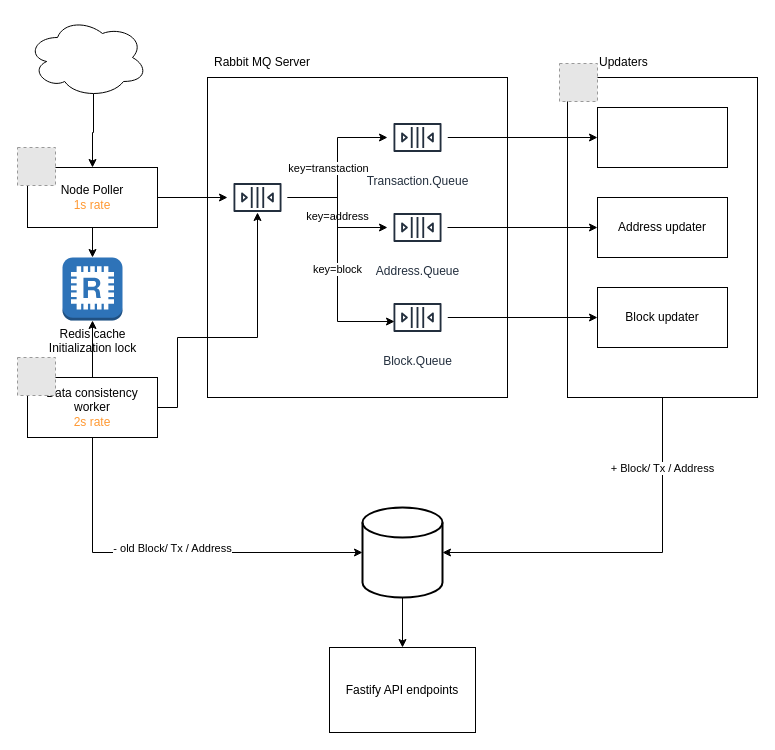
This 775x750 diagram has some shape labels left out. Grey dashed boxes stand in for pictures. The shapes that lost their labels are listed below. From the top down, each one's centre as x and y in pixels, then its label:
At (87,57): "Avascan node API".
At (662,137): "Tx updater".
At (257,197): "Exchange Data.Exchange".
At (402,552): "MongoDB".
